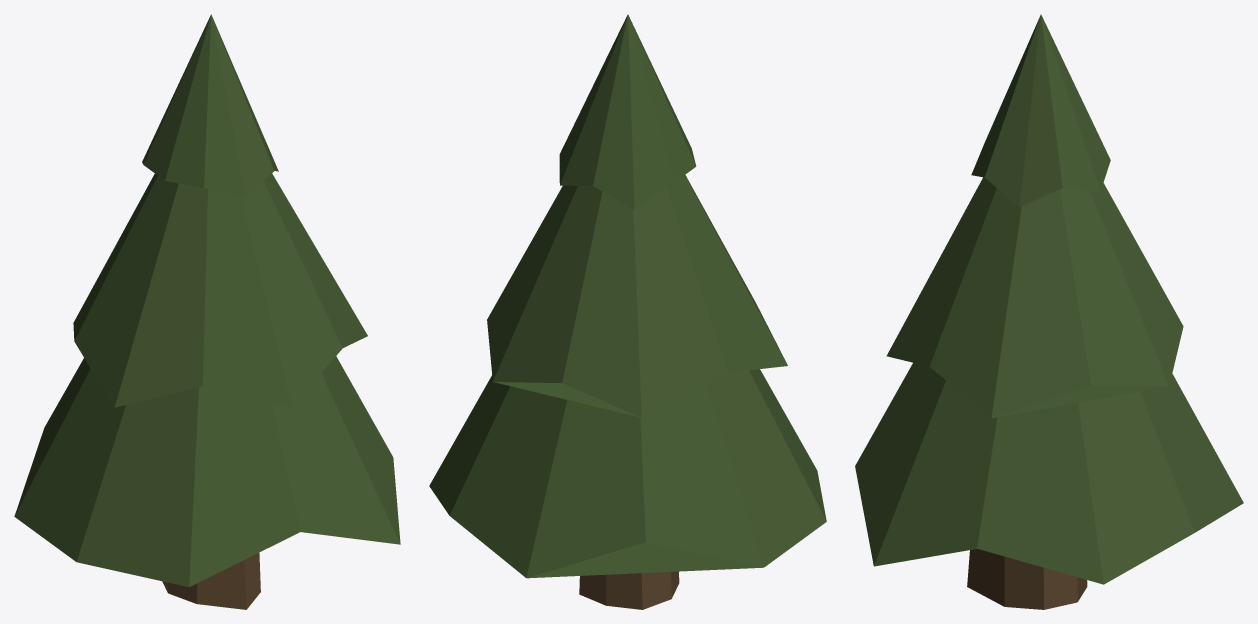
File: sapin.fbx
3 renders of one model, left to right at view 1: azimuth 30°, elevation 25°; view 2: azimuth 150°, elevation 25°; view 3: azimuth 270°, elevation 25°, orthographic.
Parts seen in each view (by area): view 1: Cube; view 2: Cube; view 3: Cube.
Boxes of the visible parts, left/top/right/bottom form: Cube: left=14, top=14, right=400, bottom=609; Cube: left=429, top=14, right=826, bottom=609; Cube: left=855, top=14, right=1243, bottom=609.
Size of the model in its own units: 693 by 1143 by 698.
